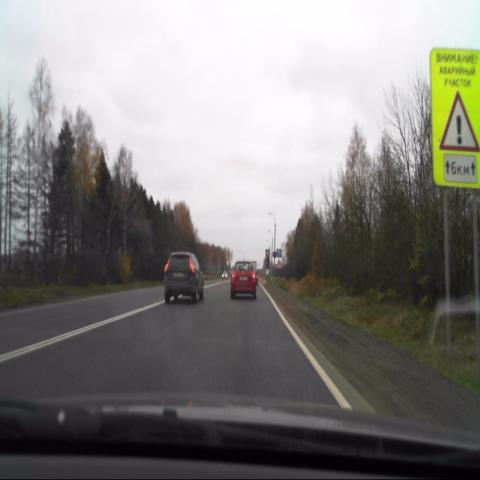1_33: (436, 90, 480, 152)
